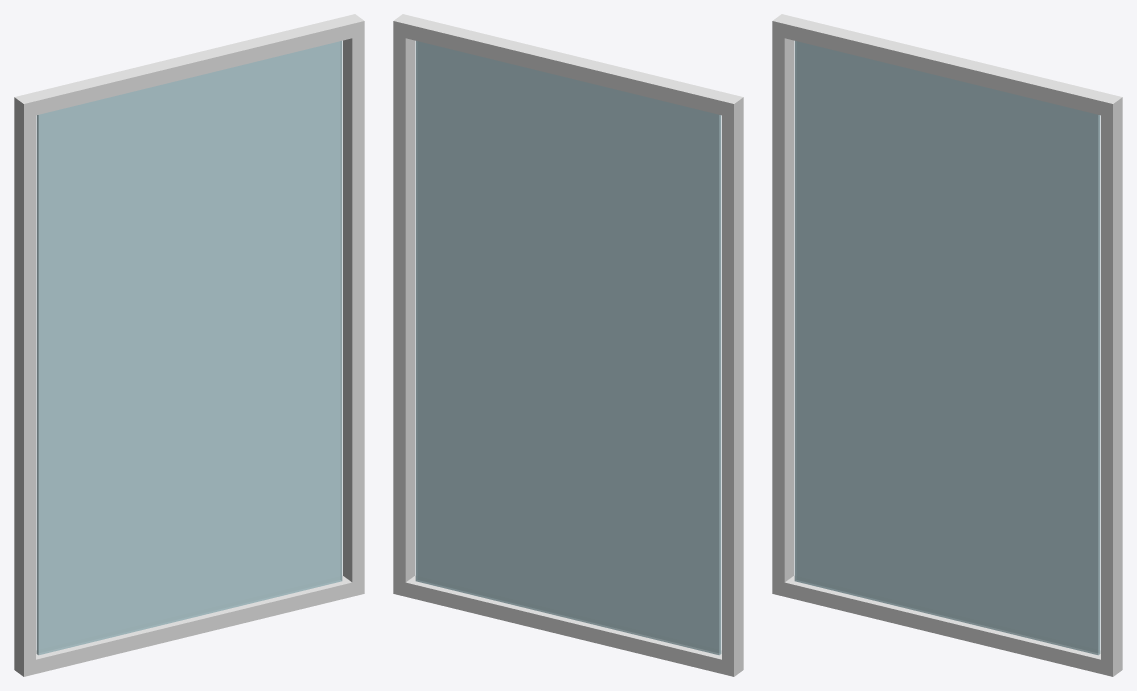
File: division-blanco-esmerilado.glb
3 views of the same model, side by side, from view 1: azimuth 30°, elevation 25°; view 2: azimuth 150°, elevation 25°; view 3: azimuth 330°, elevation 25° (orthographic).
Parts seen in each view (by area): view 1: glass, post-0.6, post0.6, rail1.975, rail0.025; view 2: glass, post-0.6, post0.6, rail1.975, rail0.025; view 3: glass, post0.6, post-0.6, rail1.975, rail0.025.
Boxes of the visible parts, left/top/right/bottom form: glass: left=36, top=41, right=342, bottom=655; post-0.6: left=14, top=94, right=35, bottom=676; post0.6: left=343, top=14, right=364, bottom=596; rail1.975: left=21, top=17, right=357, bottom=116; rail0.025: left=36, top=575, right=354, bottom=673; glass: left=415, top=41, right=721, bottom=655; post-0.6: left=722, top=94, right=743, bottom=676; post0.6: left=393, top=14, right=414, bottom=596; rail1.975: left=399, top=17, right=736, bottom=116; rail0.025: left=402, top=575, right=727, bottom=673; glass: left=794, top=41, right=1100, bottom=655; post0.6: left=1101, top=94, right=1122, bottom=676; post-0.6: left=772, top=14, right=793, bottom=596; rail1.975: left=778, top=17, right=1115, bottom=116; rail0.025: left=781, top=575, right=1106, bottom=673.
Bounding box in the file's own units: 1.25 × 2 × 0.06.
